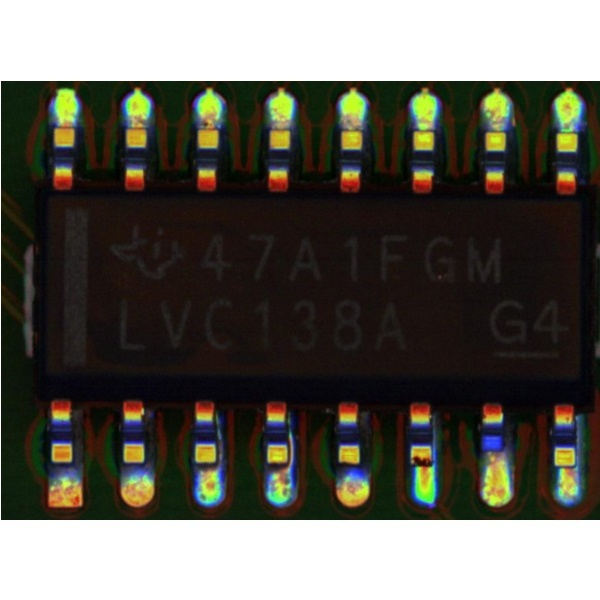Bad_podu: (561, 451, 574, 480)
Bad_qiaojiao: (214, 413, 222, 469), (430, 417, 439, 464), (287, 415, 295, 467)
